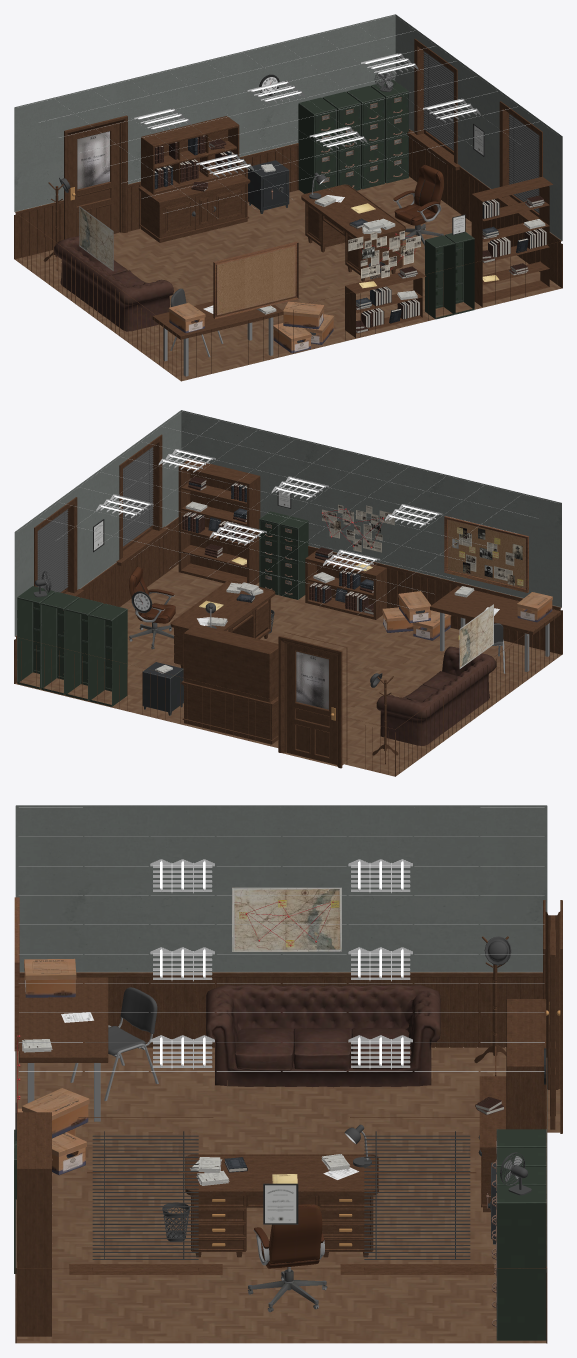
Rendered from env_detective_office.glb.
The picture shows the model from 3 angles, top to bottom: view 1: azimuth 30°, elevation 25°; view 2: azimuth 150°, elevation 25°; view 3: azimuth 270°, elevation 25°; orthographic projection. The views are drawn at different scales.
Parts seen in each view (by area): view 1: walls, walls.005, Sofa, cabinet, board.001, door, Cube.019, Cube.002, cabinet.001, lights, locker.005, locker.007 (+20 smaller); view 2: walls, walls.005, Cube.019, Sofa, cabinet.001, door, cabinet, lights, locker.005, board.001, Cube.002, table (+20 smaller); view 3: walls, Sofa, walls.005, Cube.002, lights, locker, Cube.019, map.003, table, Cube.005, Cube.013, cabinet.001 (+19 smaller).
Part boxes in pixels (left/top/right/bottom): walls: left=14, top=14, right=562, bottom=380; walls.005: left=14, top=136, right=562, bottom=381; Sofa: left=54, top=236, right=173, bottom=331; cabinet: left=138, top=172, right=250, bottom=242; board.001: left=213, top=241, right=298, bottom=318; door: left=69, top=123, right=119, bottom=237; Cube.019: left=471, top=176, right=552, bottom=306; Cube.002: left=301, top=184, right=405, bottom=281; cabinet.001: left=141, top=116, right=239, bottom=194; lights: left=134, top=53, right=480, bottom=177; locker.005: left=298, top=97, right=336, bottom=193; locker.007: left=346, top=86, right=384, bottom=189; walls: left=14, top=410, right=561, bottom=776; walls.005: left=14, top=520, right=562, bottom=776; Cube.019: left=178, top=459, right=260, bottom=584; Sofa: left=376, top=646, right=496, bottom=745; cabinet.001: left=183, top=624, right=278, bottom=702; door: left=286, top=643, right=336, bottom=764; cabinet: left=181, top=680, right=278, bottom=744; lights: left=96, top=449, right=442, bottom=573; locker.005: left=89, top=603, right=127, bottom=706; board.001: left=444, top=516, right=528, bottom=592; Cube.002: left=170, top=580, right=275, bottom=668; table: left=430, top=586, right=560, bottom=671; walls: left=15, top=805, right=560, bottom=1343; Sofa: left=205, top=984, right=440, bottom=1087; walls.005: left=15, top=977, right=547, bottom=1343; Cube.002: left=185, top=1154, right=378, bottom=1257; lights: left=150, top=859, right=412, bottom=1069; locker: left=491, top=1185, right=546, bottom=1340; Cube.019: left=17, top=1113, right=51, bottom=1336; map.003: left=232, top=887, right=341, bottom=951; table: left=19, top=977, right=108, bottom=1121; Cube.005: left=364, top=1135, right=470, bottom=1259; Cube.013: left=92, top=1135, right=198, bottom=1259; cabinet.001: left=506, top=999, right=546, bottom=1129.
Size of the model in its own units: 8.28 by 3.14 by 6.27.
Materials: 16 (10 with a texture image).
